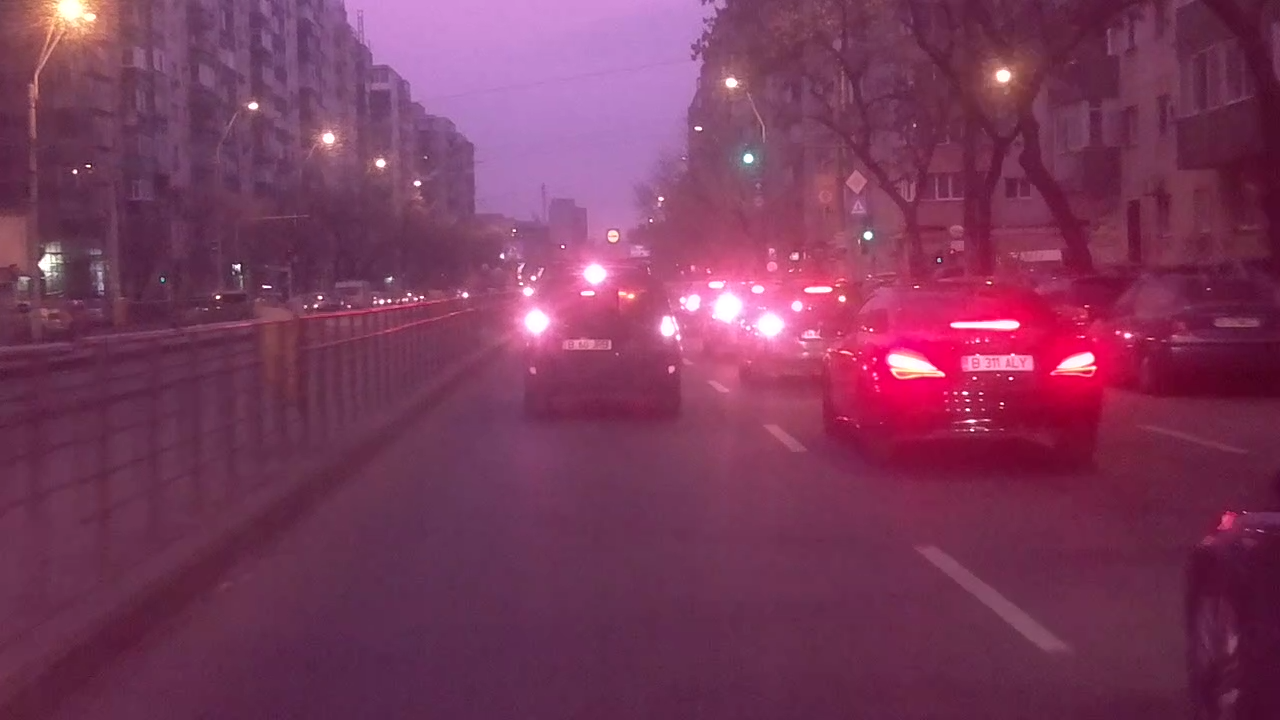license-plate: (957, 352, 1036, 374), (558, 336, 614, 352)
